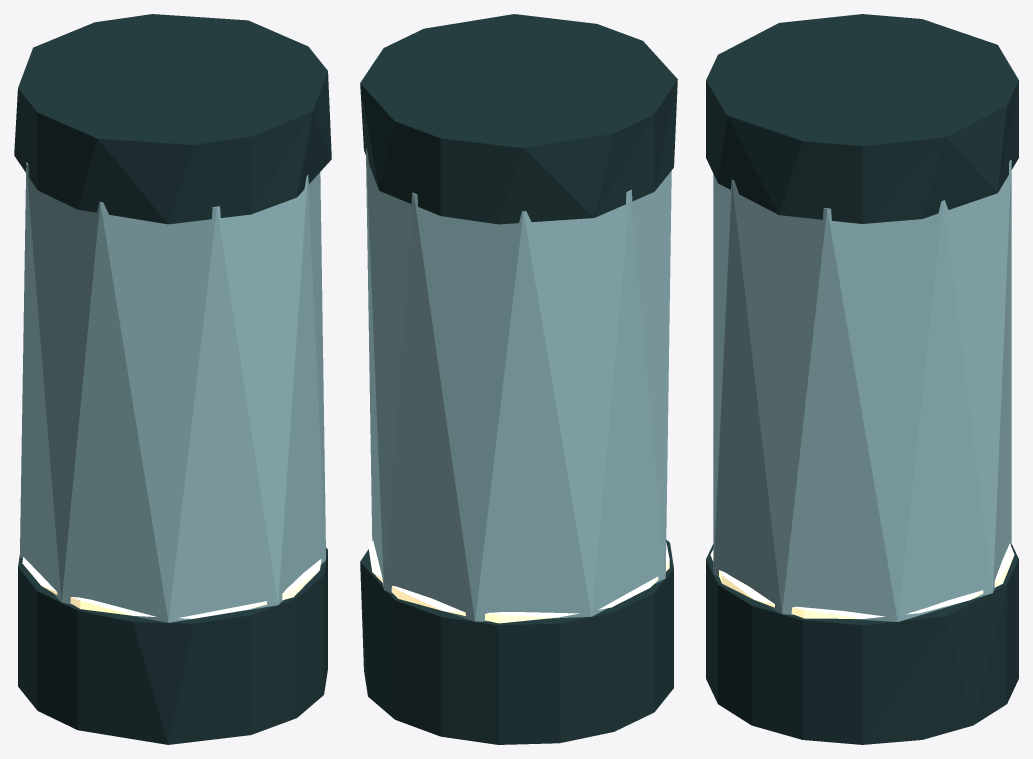
Rendered from jellyfish_cylinder.fbx.
3 renders of one model, left to right at view 1: azimuth 30°, elevation 25°; view 2: azimuth 150°, elevation 25°; view 3: azimuth 270°, elevation 25°, orthographic.
Visible parts, largest first — view 1: jellyfish_cylinder; view 2: jellyfish_cylinder; view 3: jellyfish_cylinder.
Part boxes in pixels (<box>): jellyfish_cylinder: <box>14,14,331,744</box>; jellyfish_cylinder: <box>360,14,677,744</box>; jellyfish_cylinder: <box>706,14,1018,744</box>.
Size of the model in its own units: 1.8 by 3.8 by 1.8.
